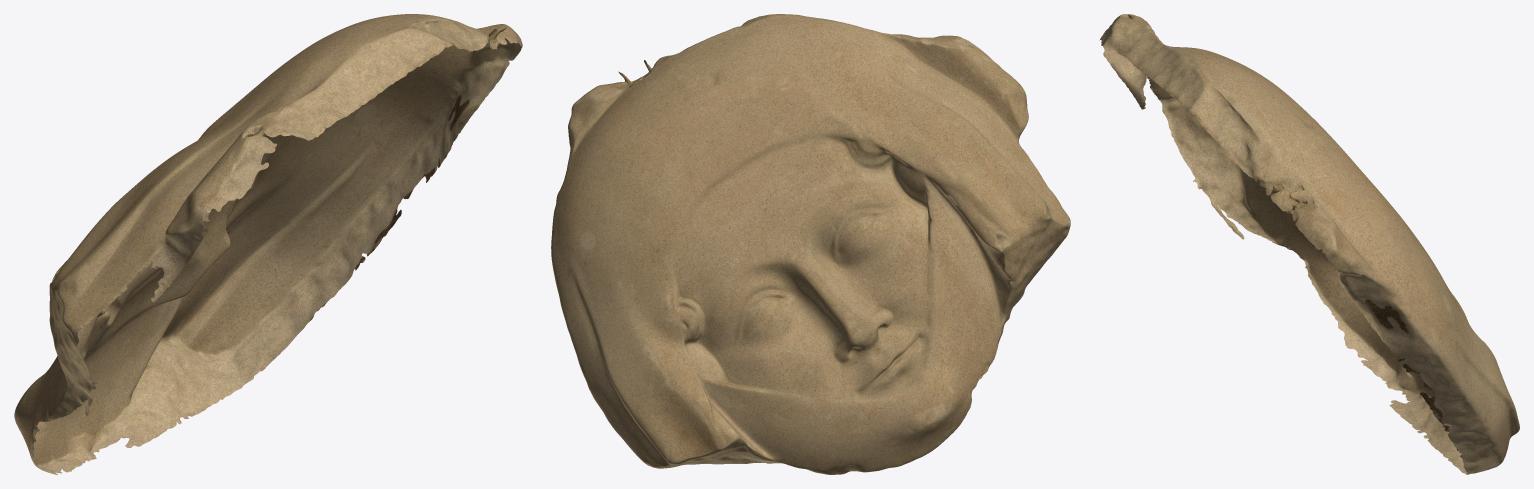
Rendered from 20120001-BKD-DeathMask_High-transformed.glb.
The picture shows the model from 3 angles, left to right: view 1: azimuth 30°, elevation 25°; view 2: azimuth 150°, elevation 25°; view 3: azimuth 270°, elevation 25°; orthographic projection. The views are drawn at different scales.
Visible parts, largest first — view 1: 20120001-BKD-DeathMask_High; view 2: 20120001-BKD-DeathMask_High; view 3: 20120001-BKD-DeathMask_High.
Boxes of the visible parts, x1=… form: 20120001-BKD-DeathMask_High: x1=14, y1=14, x2=522, y2=474; 20120001-BKD-DeathMask_High: x1=551, y1=14, x2=1070, y2=474; 20120001-BKD-DeathMask_High: x1=1099, y1=14, x2=1519, y2=474.
Bounding box in the file's own units: 0.2362 × 0.1935 × 0.1844.
1 material, 1 textured.
